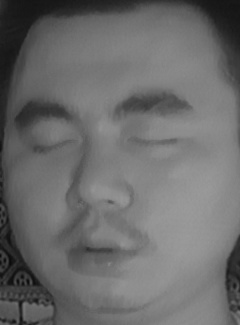blink: (126, 121, 183, 163), (29, 130, 79, 163)
mouth: (54, 222, 142, 280)
